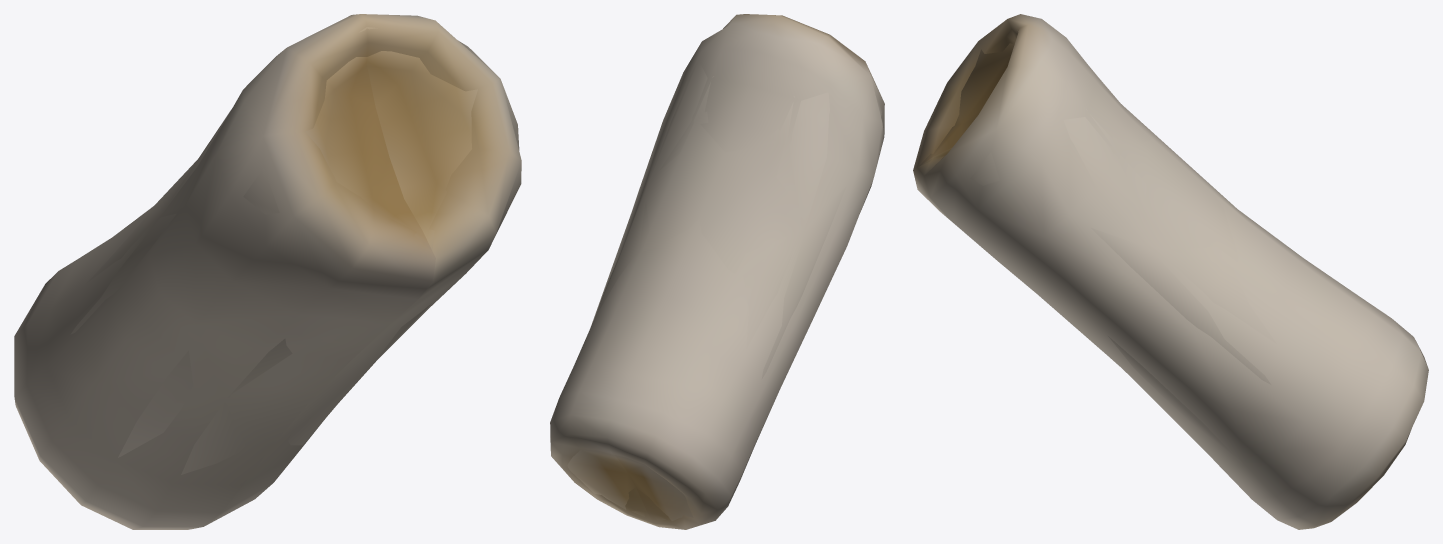
Rendered from vertebrae caudales 14.fbx.
The picture shows the model from 3 angles, left to right: view 1: azimuth 30°, elevation 25°; view 2: azimuth 150°, elevation 25°; view 3: azimuth 270°, elevation 25°; orthographic projection. The views are drawn at different scales.
Visible parts, largest first — view 1: vertebrae caudales 14, vertebrae caudales 14 low; view 2: vertebrae caudales 14, vertebrae caudales 14 low; view 3: vertebrae caudales 14, vertebrae caudales 14 low.
Boxes of the visible parts, box(x1,y1,x2,y2) form: vertebrae caudales 14: box(14, 14, 521, 529); vertebrae caudales 14 low: box(70, 27, 516, 474); vertebrae caudales 14: box(550, 14, 884, 529); vertebrae caudales 14 low: box(567, 61, 882, 520); vertebrae caudales 14: box(913, 14, 1428, 529); vertebrae caudales 14 low: box(918, 30, 1276, 463).
Bounding box in the file's own units: 0.7474 × 1.48 × 1.4.
1 material, 1 textured.
